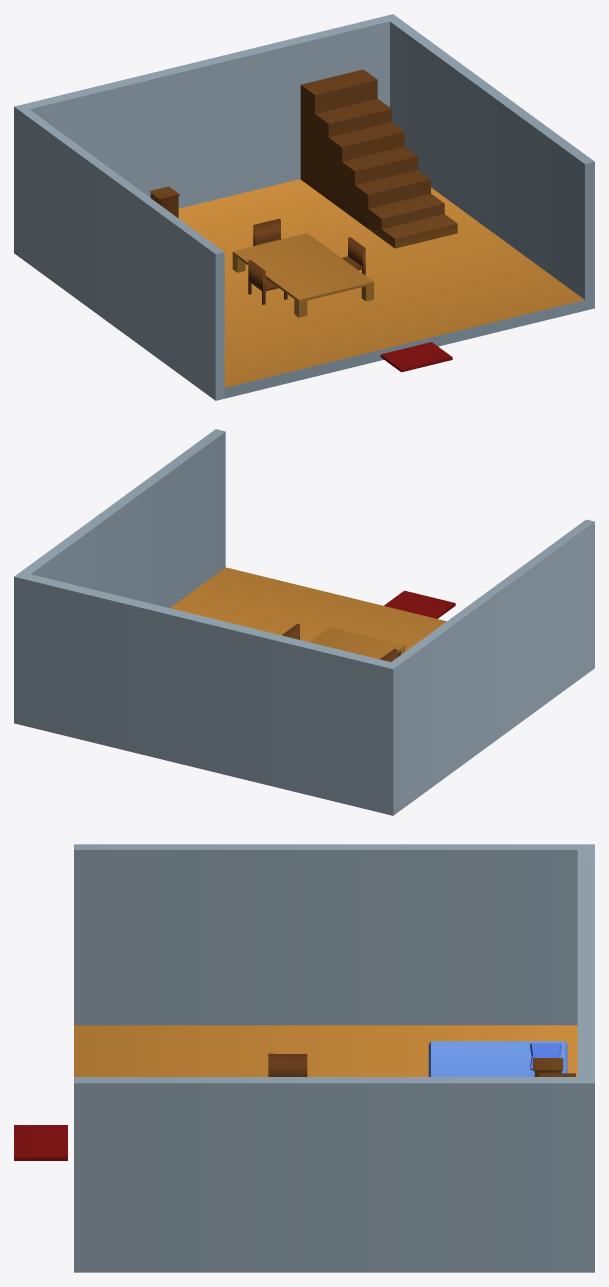
File: CasaInteriorLupo.fbx
The picture shows the model from 3 angles, top to bottom: view 1: azimuth 30°, elevation 25°; view 2: azimuth 150°, elevation 25°; view 3: azimuth 270°, elevation 25°; orthographic projection. The views are drawn at different scales.
Visible parts, largest first — view 1: Cubo.025, Cubo.001, escalera, mesa1, Cubo, silla2, silla1, MUEBLE CAMA, silla; view 2: Cubo.025, Cubo.001, mesa1, Cubo; view 3: Cubo.025, Cubo.001, cama, Cubo, silla2.
Boxes of the visible parts, box(x1,y1,x2,y2) form: Cubo.025: box(14, 14, 594, 400); Cubo.001: box(178, 179, 584, 387); escalera: box(300, 69, 457, 248); mesa1: box(232, 233, 373, 317); Cubo: box(380, 342, 452, 372); silla2: box(248, 260, 287, 304); silla1: box(253, 218, 281, 245); MUEBLE CAMA: box(149, 186, 179, 218); silla: box(342, 237, 365, 275); Cubo.025: box(14, 429, 594, 815); Cubo.001: box(170, 567, 446, 651); mesa1: box(310, 627, 405, 659); Cubo: box(384, 590, 455, 618); Cubo.025: box(74, 844, 594, 1272); Cubo.001: box(74, 1025, 577, 1076); cama: box(428, 1041, 567, 1076); Cubo: box(14, 1125, 67, 1160); silla2: box(268, 1053, 307, 1076).
Size of the model in its own units: 2096 by 774 by 2153.
Materials: 3 (3 with a texture image).
